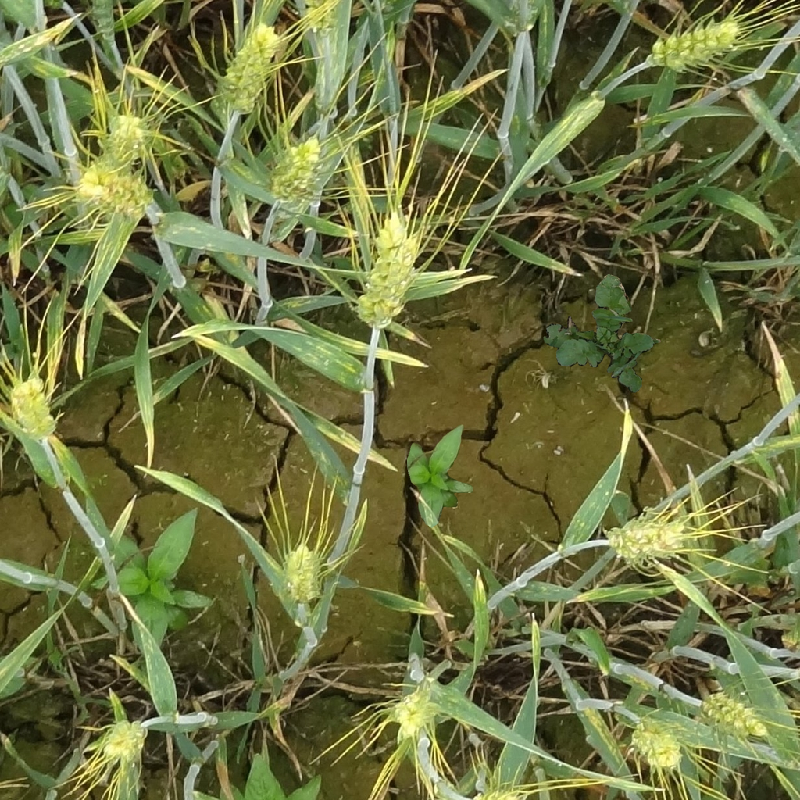spikelet: (353, 206, 423, 330), (645, 8, 746, 74), (217, 18, 285, 115), (70, 156, 159, 221), (603, 505, 697, 566), (264, 129, 328, 211), (694, 683, 772, 741), (3, 369, 62, 444), (625, 713, 687, 773), (388, 673, 443, 739), (278, 536, 328, 606), (92, 712, 151, 766), (102, 106, 154, 163)
weed: (85, 502, 220, 656), (543, 274, 661, 393), (407, 424, 473, 528)
